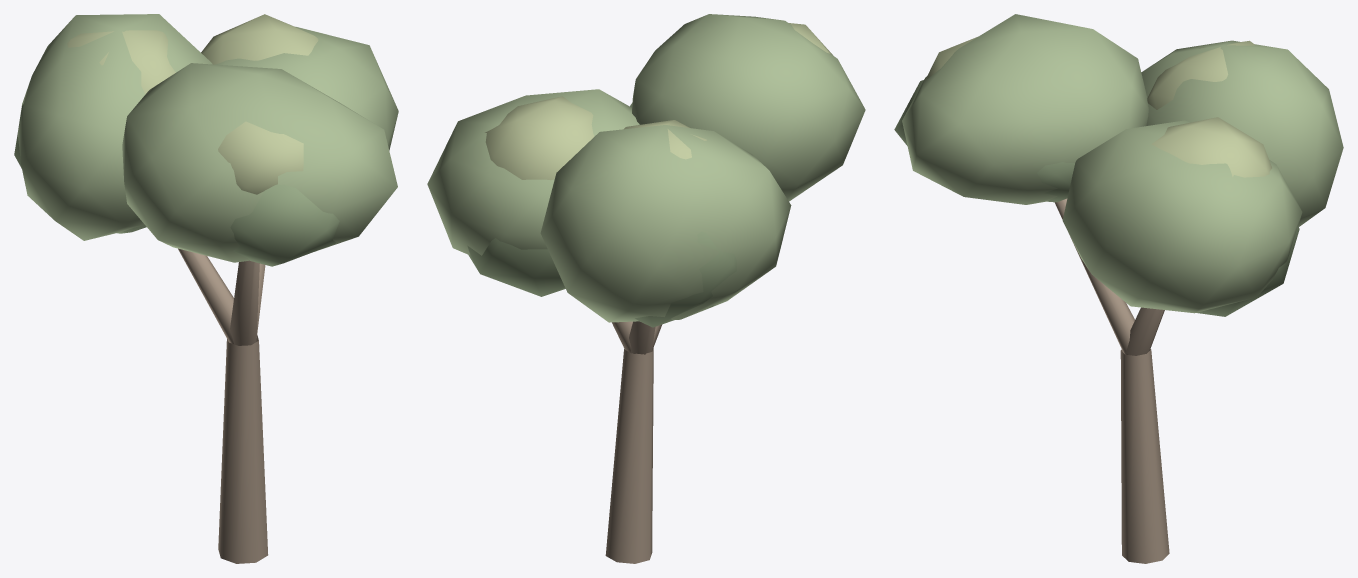
Rendered from tree_ceibo_2.glb.
3 views of the same model, side by side, from view 1: azimuth 30°, elevation 25°; view 2: azimuth 150°, elevation 25°; view 3: azimuth 270°, elevation 25° (orthographic). The views are drawn at different scales.
Visible parts, largest first — view 1: tree_ceibo_2.glb; view 2: tree_ceibo_2.glb; view 3: tree_ceibo_2.glb.
Boxes of the visible parts, box(x1,y1,x2,y2) form: tree_ceibo_2.glb: box(14, 14, 398, 563); tree_ceibo_2.glb: box(427, 14, 865, 563); tree_ceibo_2.glb: box(894, 14, 1343, 563).
Bounding box in the file's own units: 3.97 × 5.77 × 4.71.
